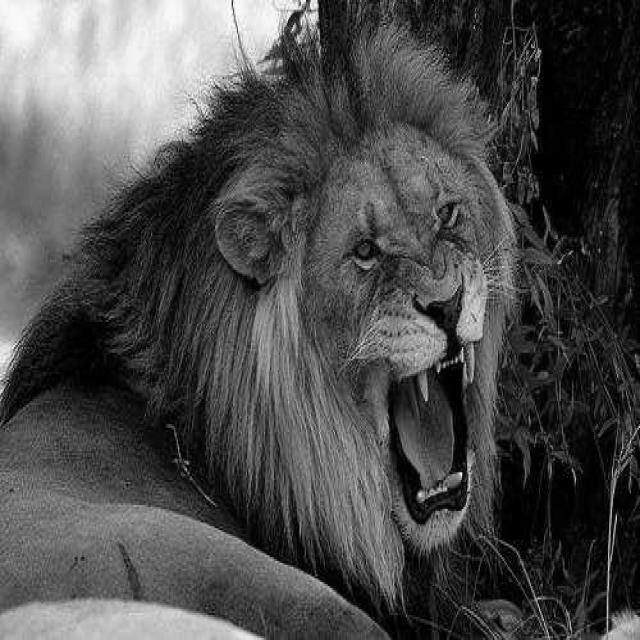Lion: (152, 30, 544, 621)
